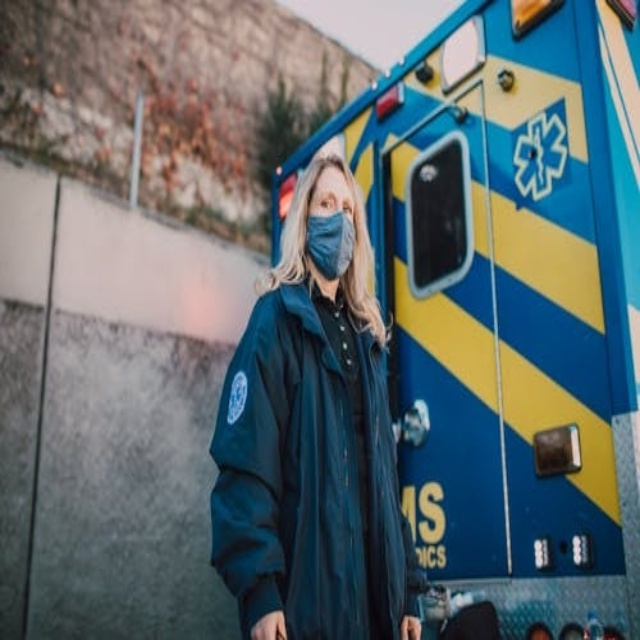Mascara: (305, 209, 354, 278)
Sin_gafas: (320, 199, 333, 210), (343, 205, 353, 215)
Sin_guantes: (246, 598, 289, 636), (392, 600, 425, 636)
